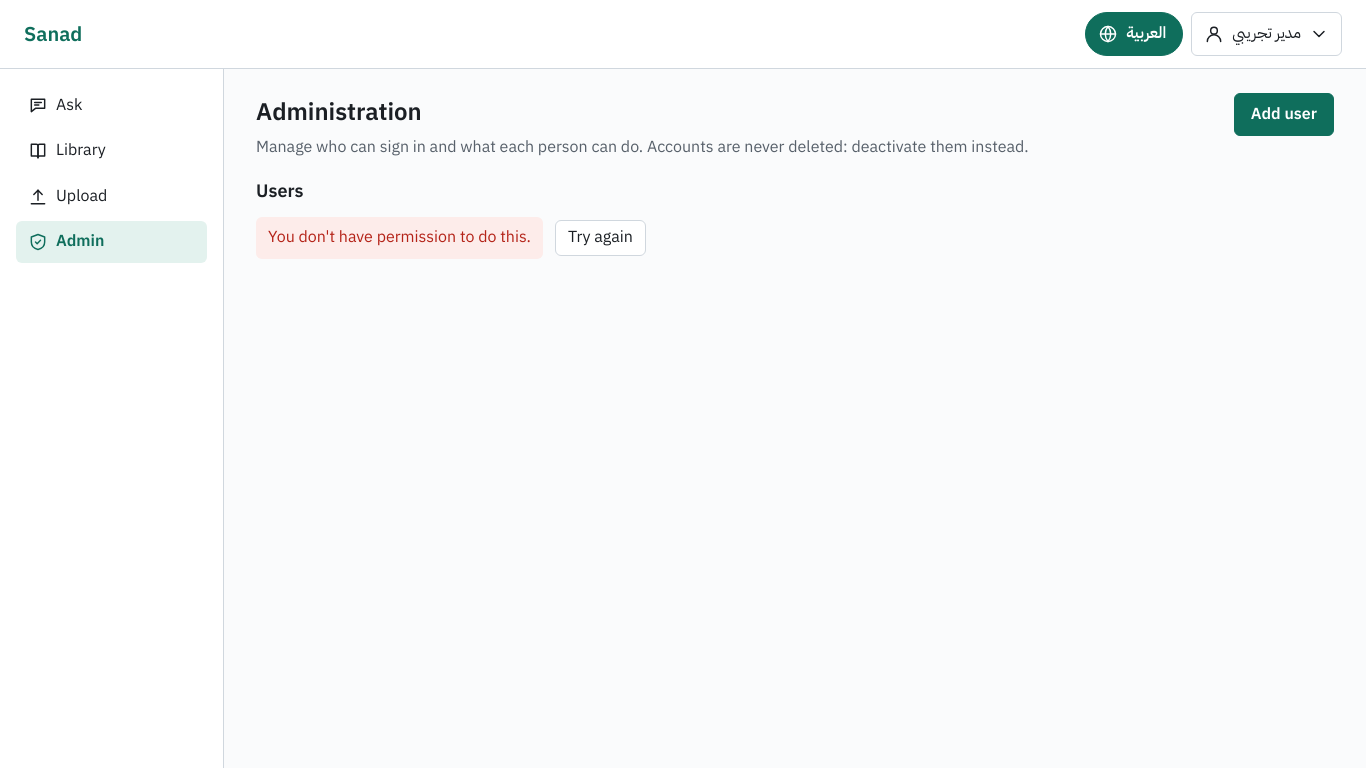
users table › a failed list shows the translated error, and Try again fetches it once more
Expected: the message reads "You don't have permission to do this.", [268,225,531,249]
Click the button "Try again" at coordinates (600, 238), box [555,220,646,256]
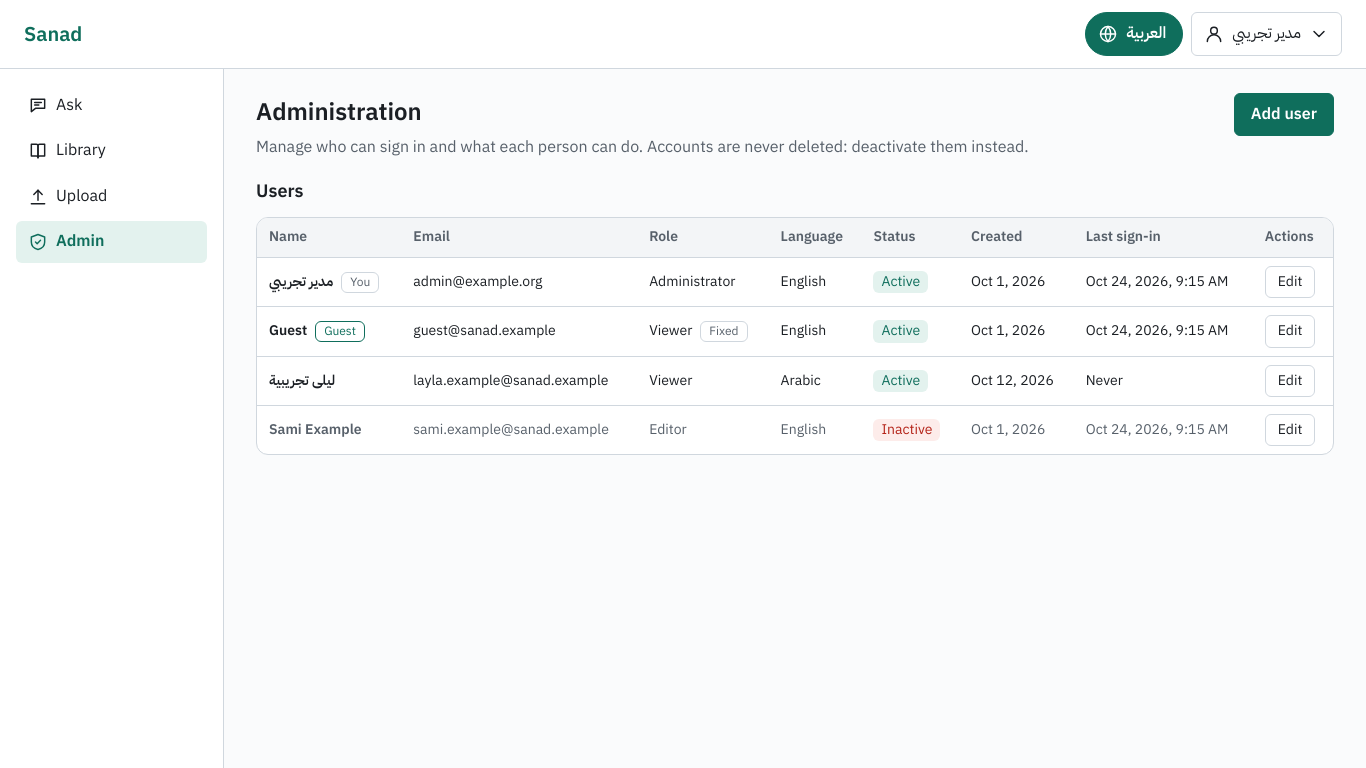
Result: the table named "Users" is shown at [257,218,1333,454]
